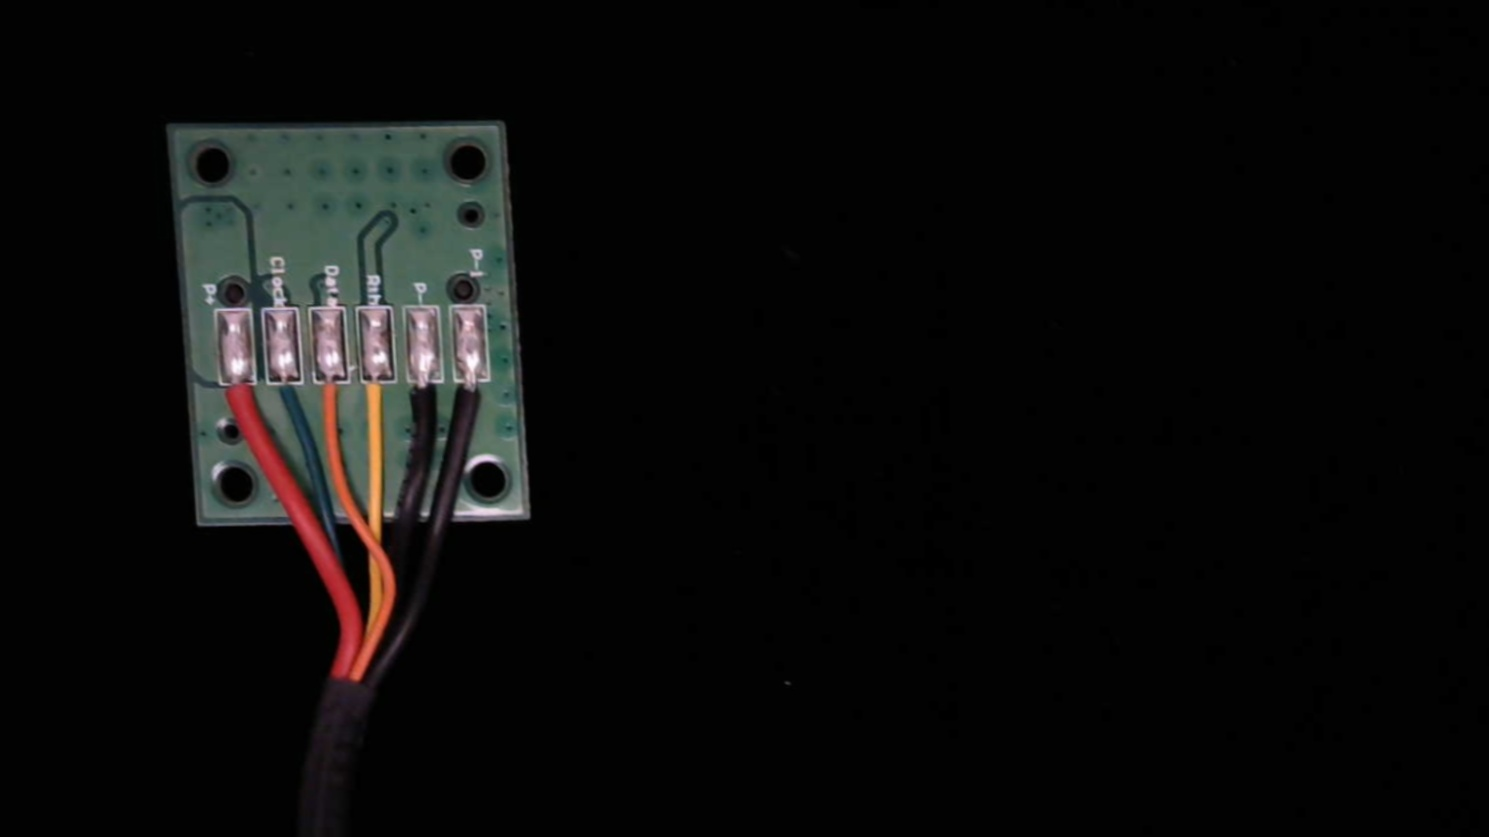Black: (407, 365, 445, 435)
Black1: (451, 365, 492, 434)
Green: (269, 366, 308, 430)
Orange: (314, 365, 350, 435)
Red: (216, 370, 261, 439)
Yellow: (359, 364, 396, 436)
